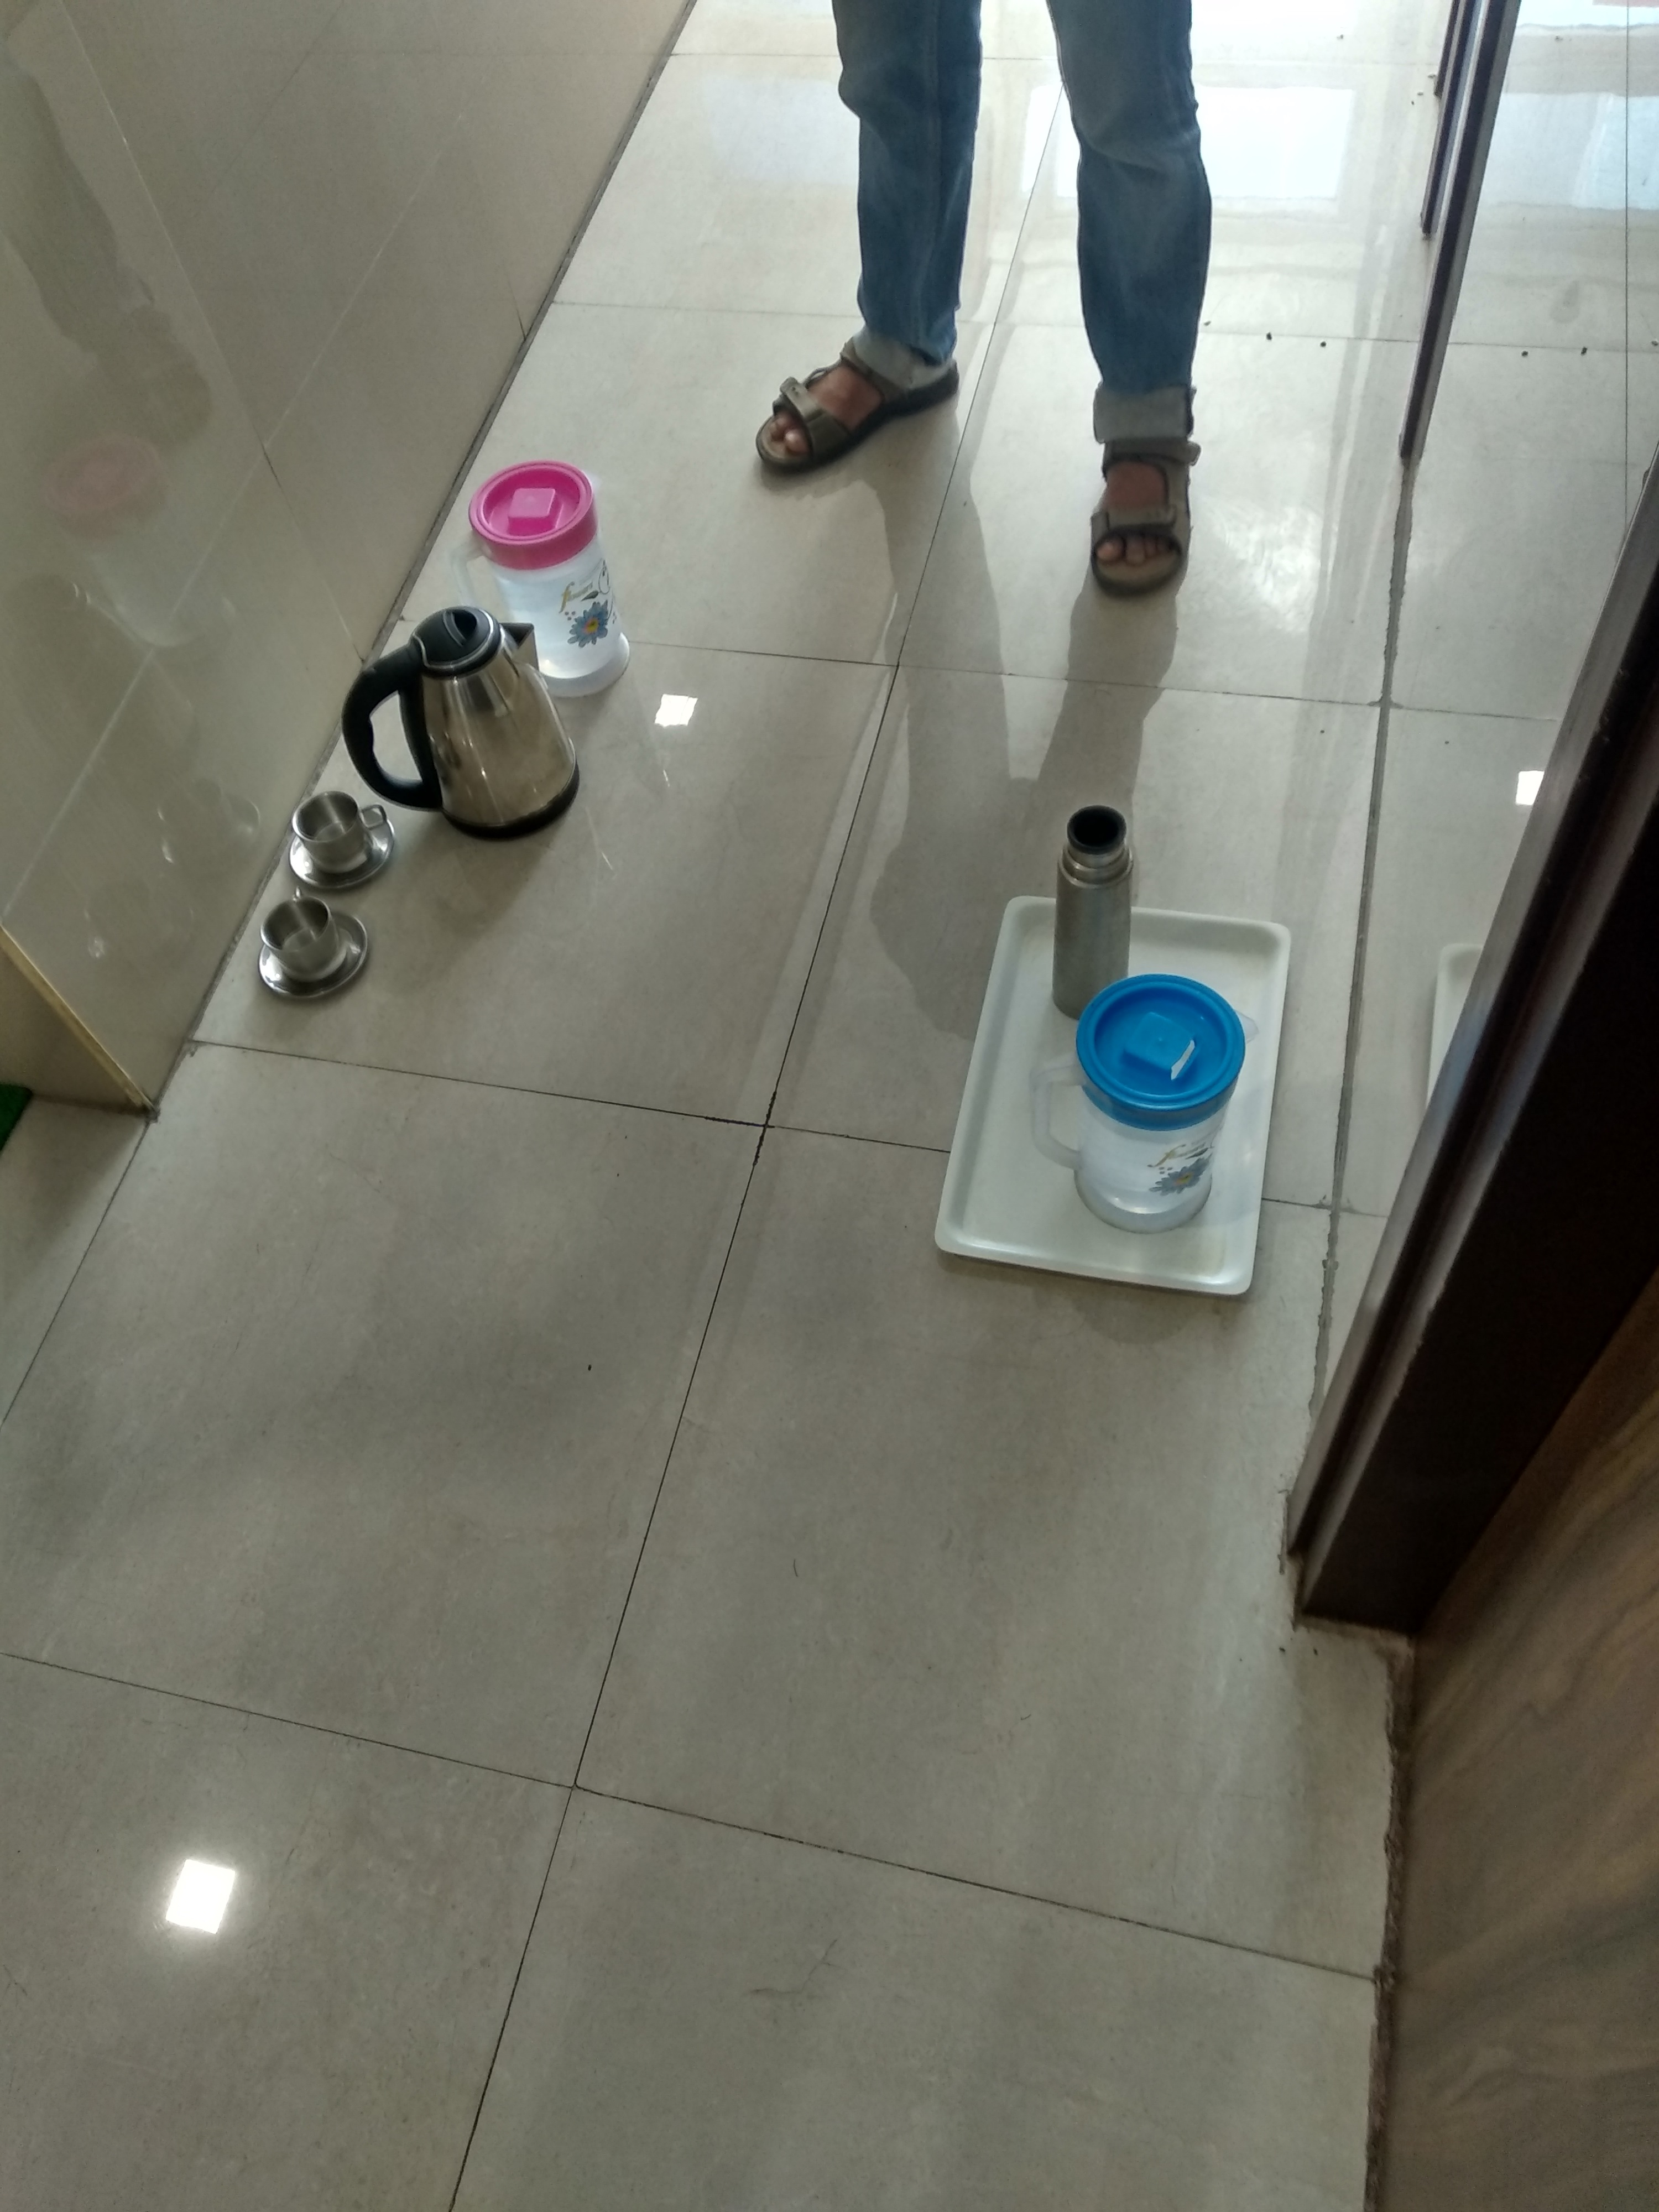CUP: (274, 773, 397, 887), (246, 899, 376, 1000)
FLASK: (1044, 792, 1147, 1001)
JUG: (1037, 944, 1267, 1251), (378, 597, 667, 836), (439, 444, 617, 599)
